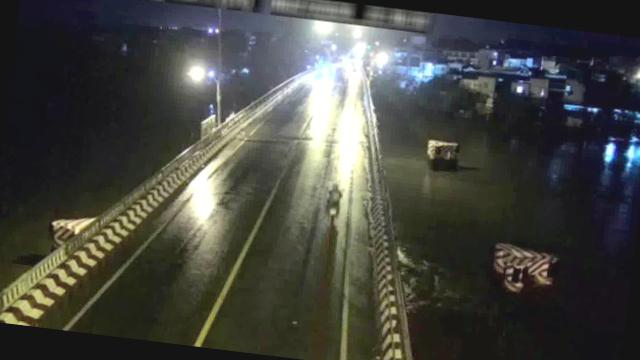Bike: (323, 182, 348, 221)
